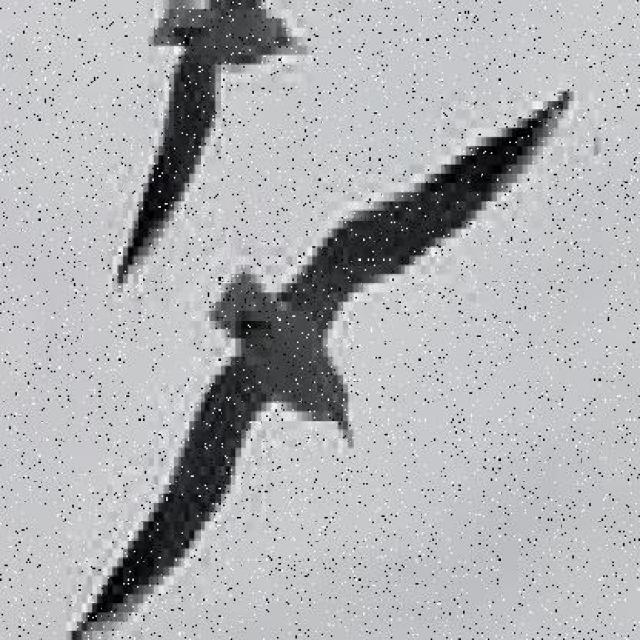bird: (42, 80, 594, 632), (104, 5, 317, 292)
